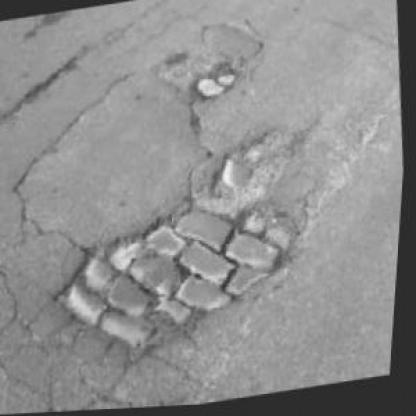pothole: (46, 190, 315, 372), (201, 125, 300, 215), (190, 61, 241, 103)
